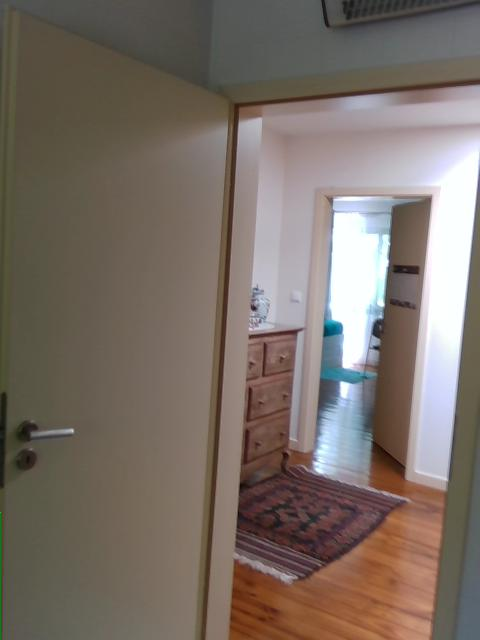door: (1, 11, 229, 639), (372, 197, 430, 470)
